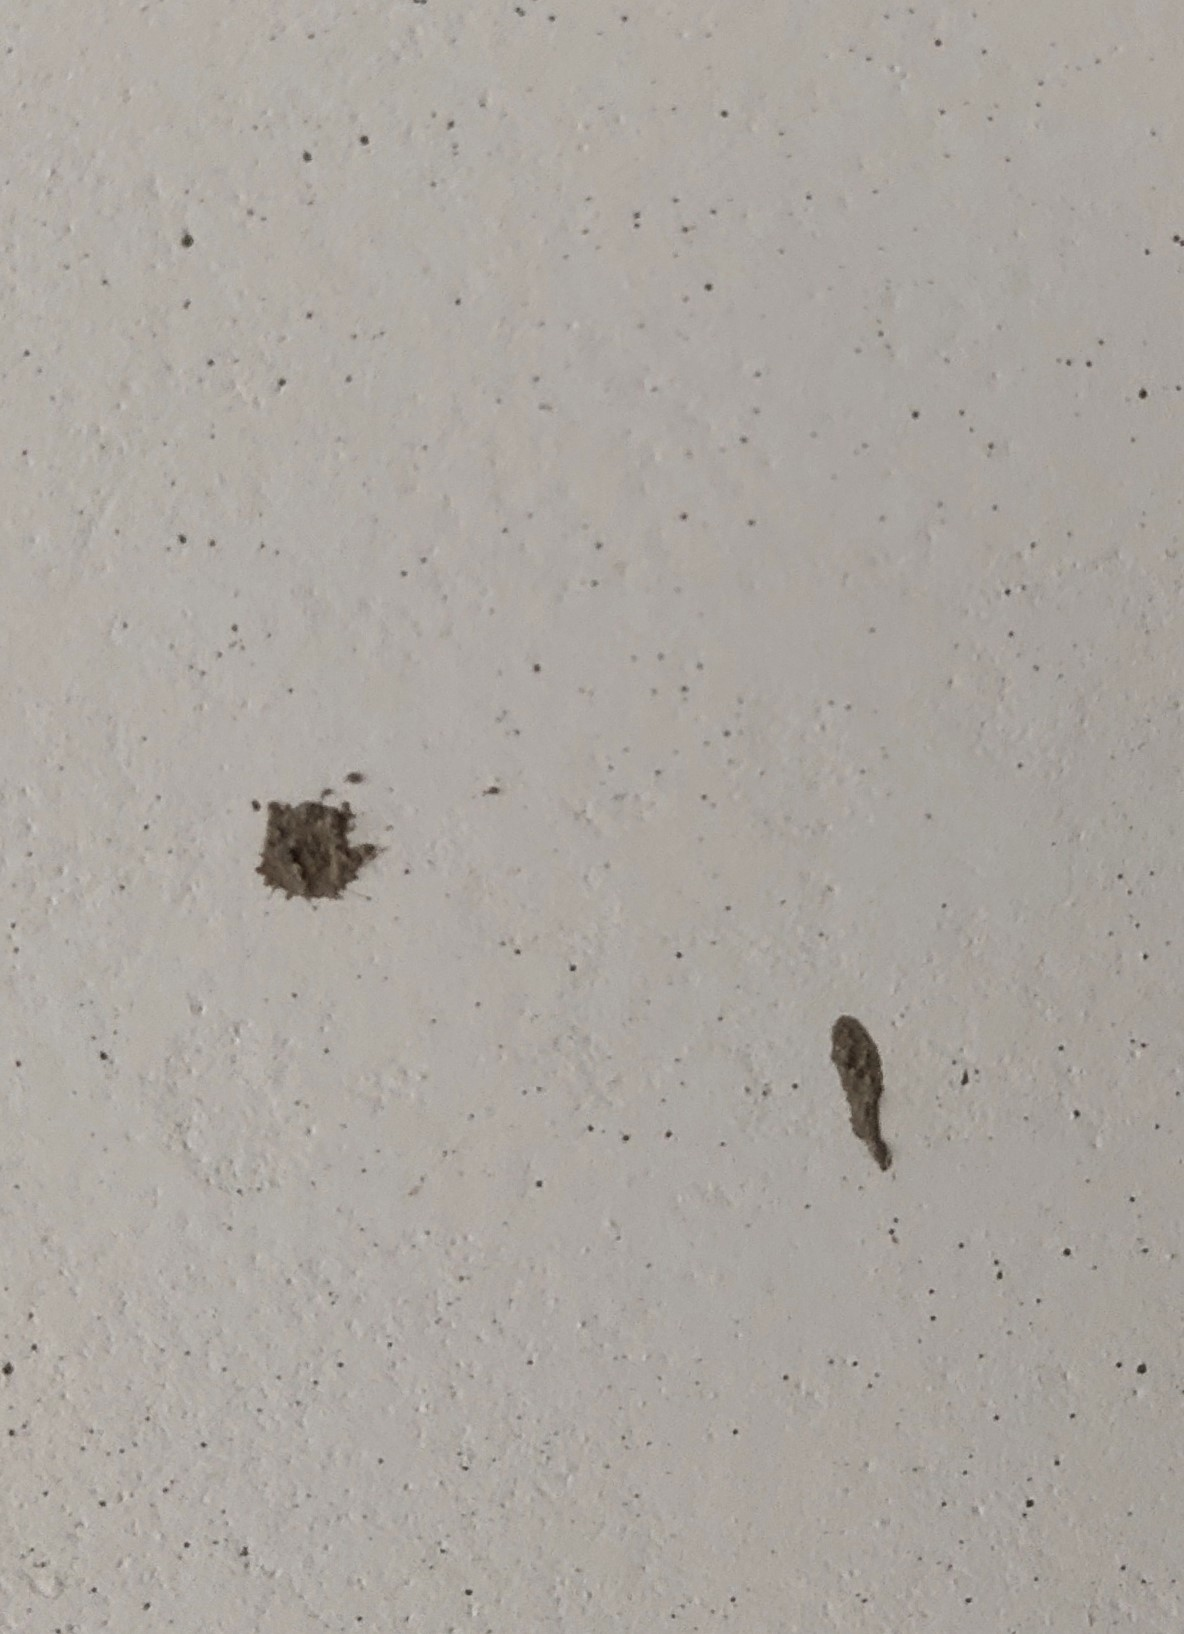grey spot: (253, 801, 378, 905), (830, 1011, 893, 1168)
